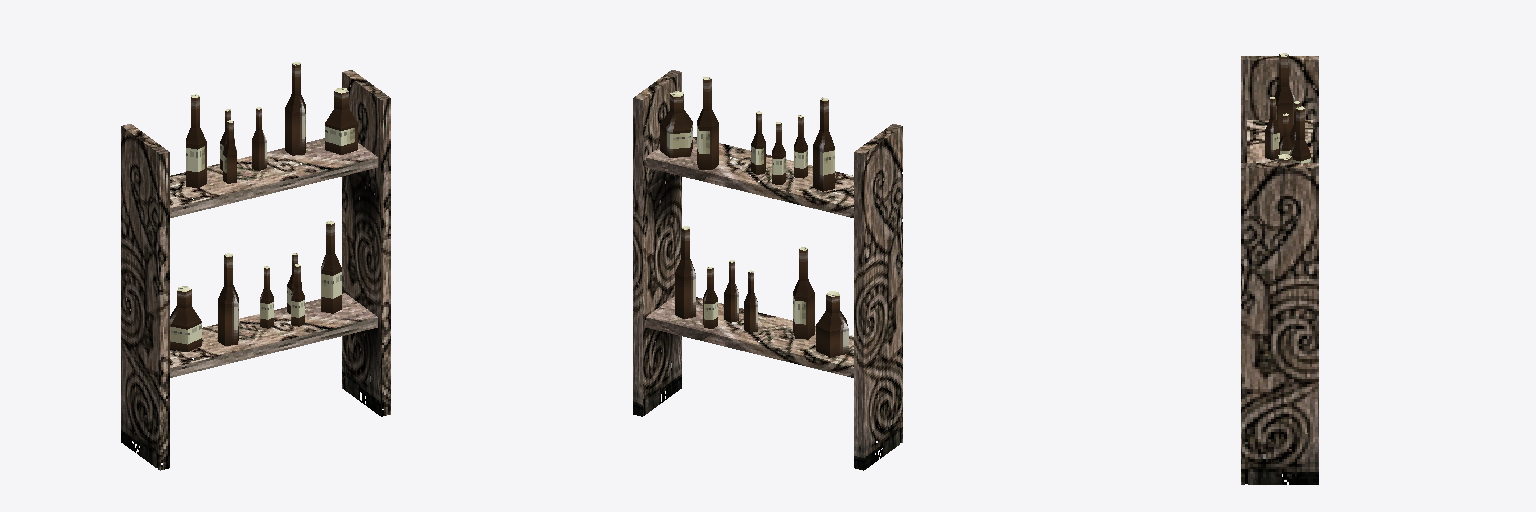
3 views of the same model, side by side, from view 1: azimuth 30°, elevation 25°; view 2: azimuth 150°, elevation 25°; view 3: azimuth 270°, elevation 25° (orthographic).
Parts seen in each view (by area): view 1: Mesh_1, Mesh_0; view 2: Mesh_1, Mesh_0; view 3: Mesh_1, Mesh_0.
Part boxes in pixels (x1,y1,x2,y2): Mesh_1: (121, 70, 390, 470); Mesh_0: (170, 62, 357, 351); Mesh_1: (633, 70, 902, 470); Mesh_0: (660, 77, 848, 356); Mesh_1: (1241, 56, 1318, 484); Mesh_0: (1265, 53, 1310, 162).
Bounding box in the file's own units: 1.6 × 2.29 × 0.4643.
2 materials, 2 textured.